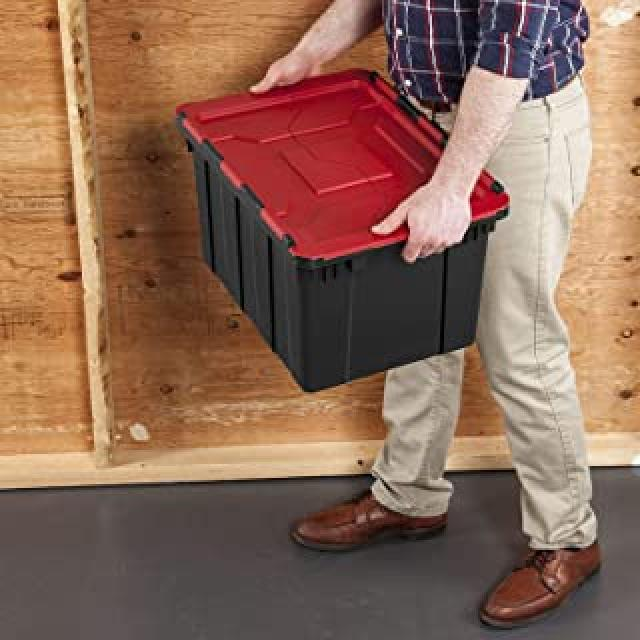basket: (161, 23, 548, 411)
